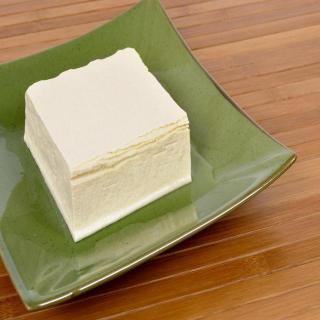Tahu: (9, 43, 205, 247)
